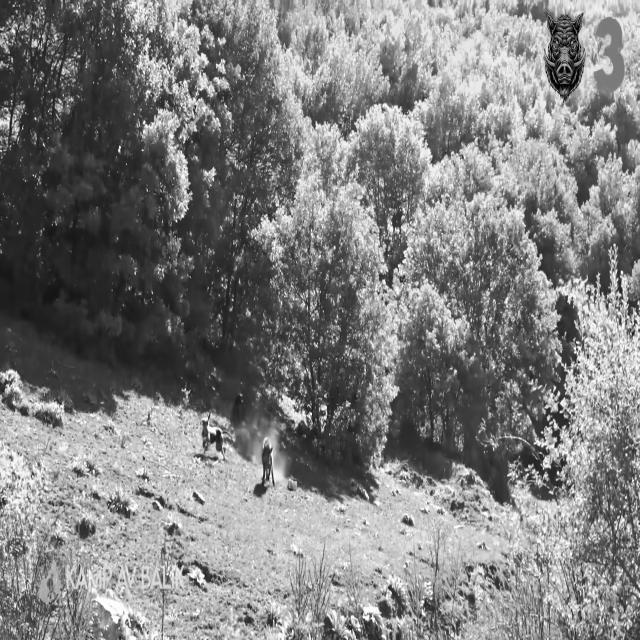boar: (201, 412, 225, 459), (261, 437, 275, 487), (231, 393, 245, 425)
